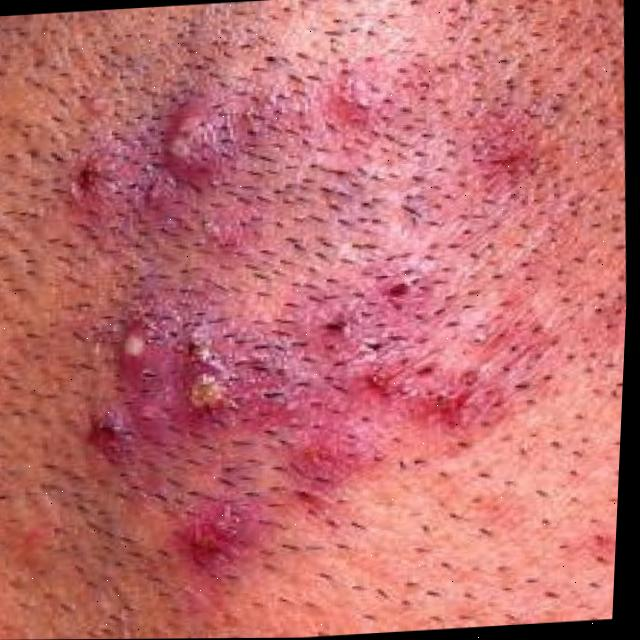Acne: (57, 30, 520, 546)
